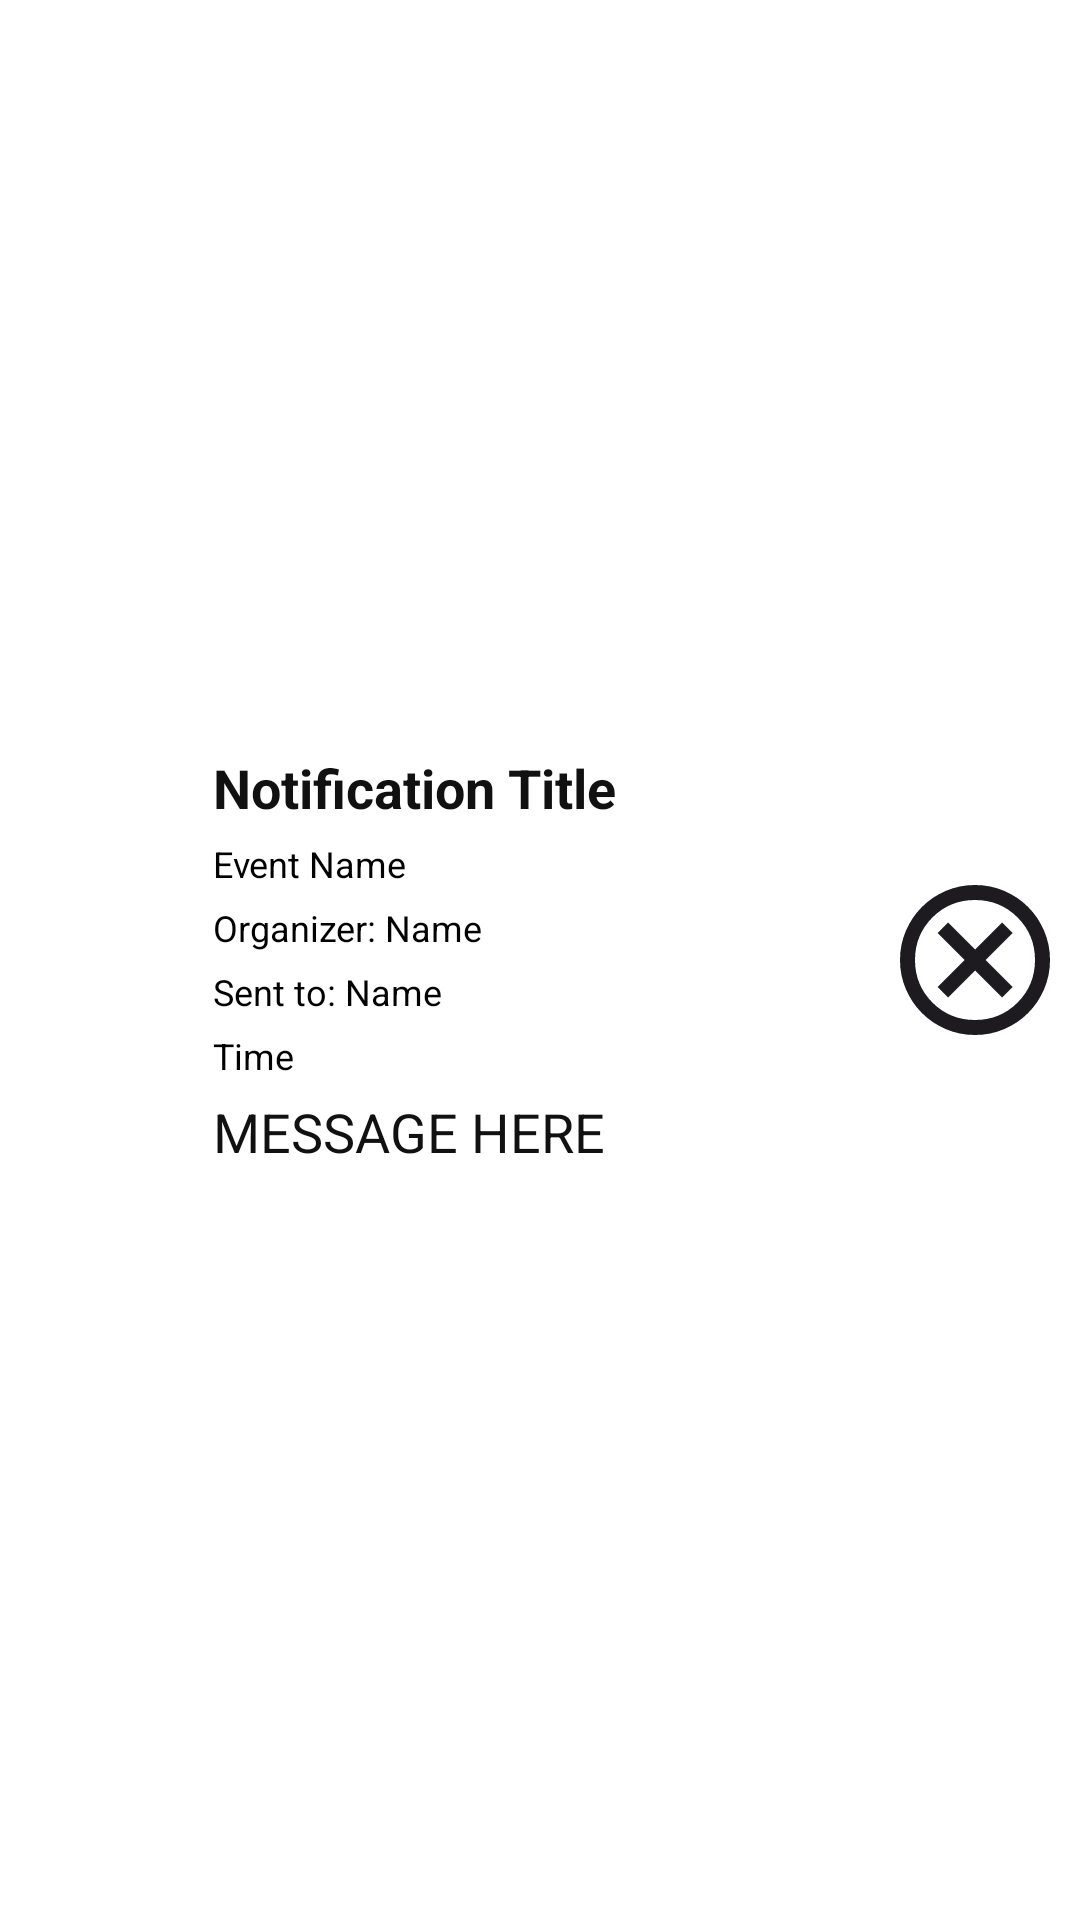

Icon bounding boxes for this 1080 × 1920 phone screenshot, format bbox(x1, y1, x2, y2):
Delete notification: bbox(900, 885, 1050, 1035)
